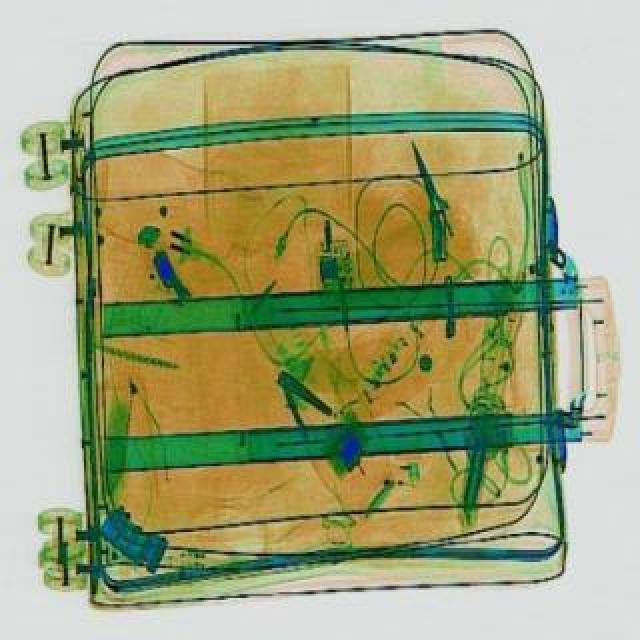knife: (402, 136, 462, 242)
